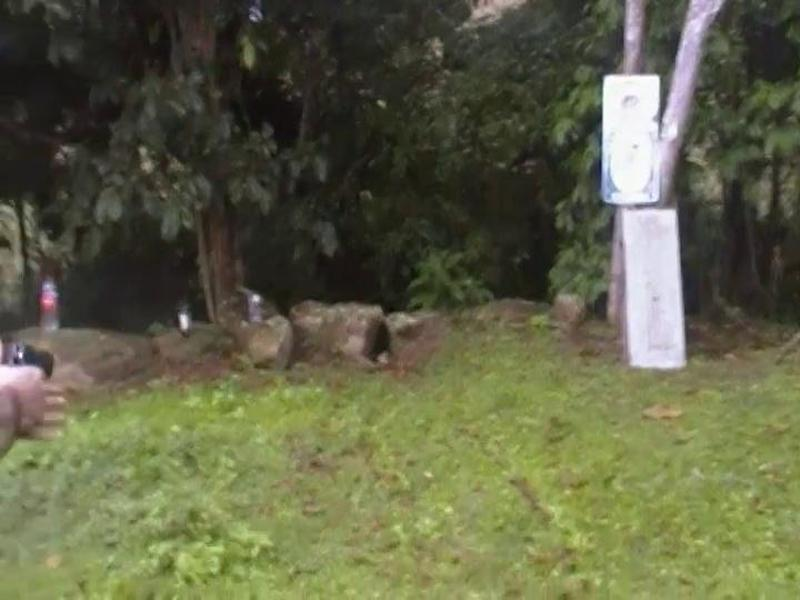Pistola: (1, 329, 66, 409)
